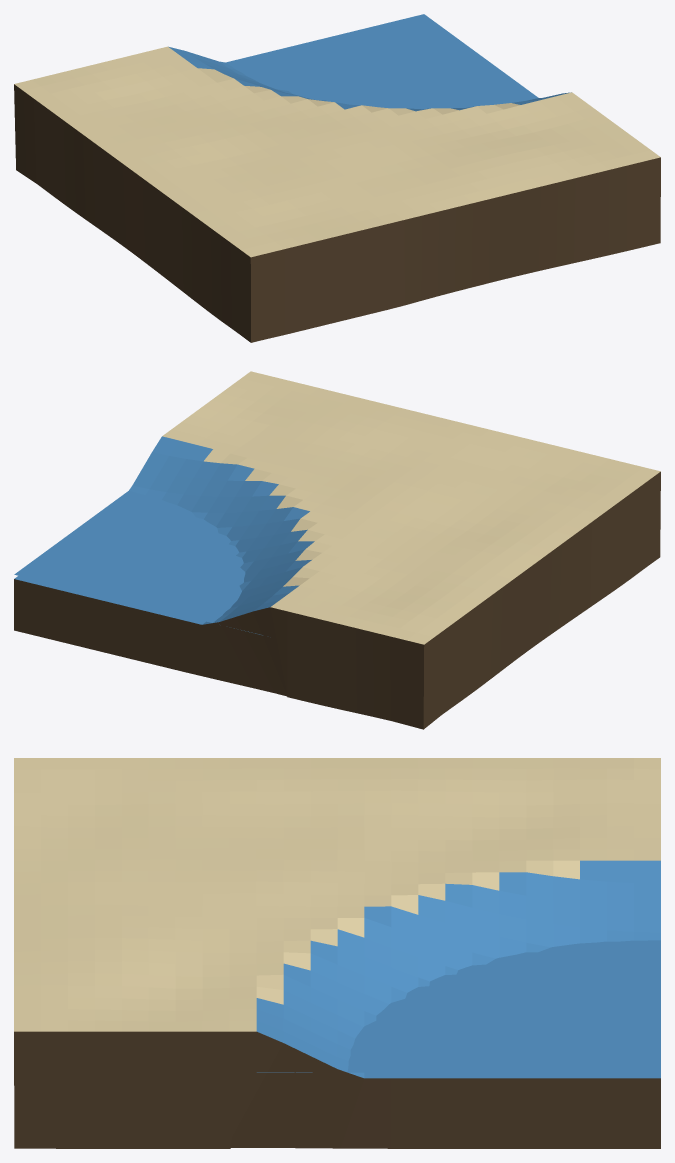
The model's file is sand_water_curve.glb.
3 views of the same model, one above another, from view 1: azimuth 30°, elevation 25°; view 2: azimuth 150°, elevation 25°; view 3: azimuth 270°, elevation 25° (orthographic). The views are drawn at different scales.
Parts seen in each view (by area): view 1: Grid; view 2: Grid; view 3: Grid.
Part boxes in pixels (<box>): Grid: <box>14,14,660,342</box>; Grid: <box>14,371,660,729</box>; Grid: <box>14,758,660,1148</box>.
Size of the model in its own units: 1 by 0.2042 by 1.
